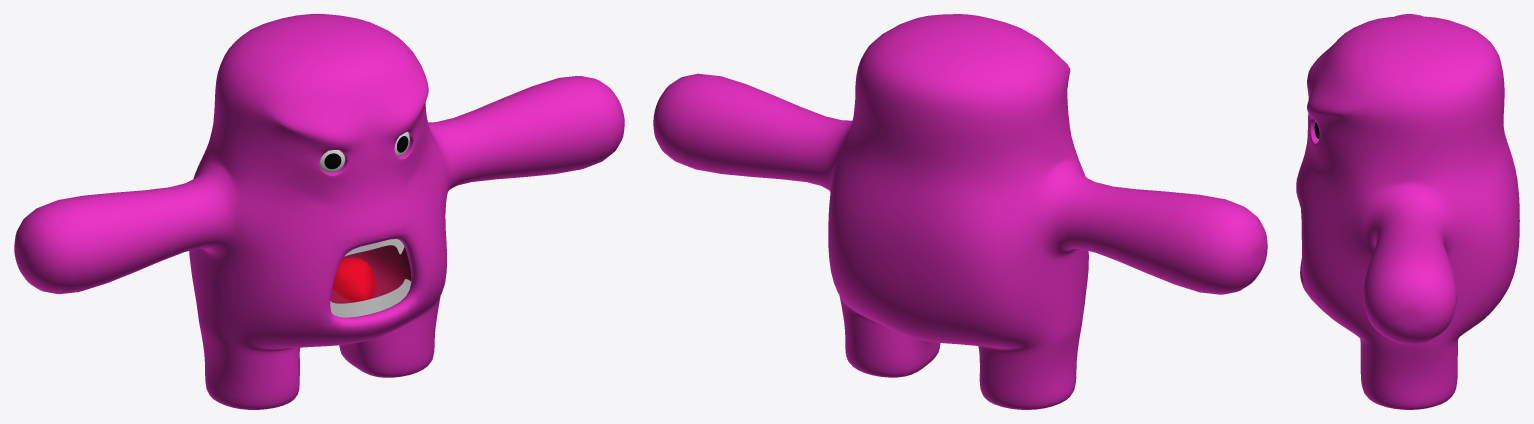
File: cute_monster.fbx
3 renders of one model, left to right at view 1: azimuth 30°, elevation 25°; view 2: azimuth 150°, elevation 25°; view 3: azimuth 270°, elevation 25°, orthographic. The views are drawn at different scales.
Visible parts, largest first — view 1: Roundcube.002, Roundcube.001; view 2: Roundcube.002; view 3: Roundcube.002.
Boxes of the visible parts, x1=… form: Roundcube.002: x1=14, y1=14, x2=624, y2=409; Roundcube.001: x1=319, y1=132, x2=409, y2=172; Roundcube.002: x1=653, y1=14, x2=1267, y2=409; Roundcube.002: x1=1296, y1=14, x2=1519, y2=409.
Bounding box in the file's own units: 338 × 186 × 115.
